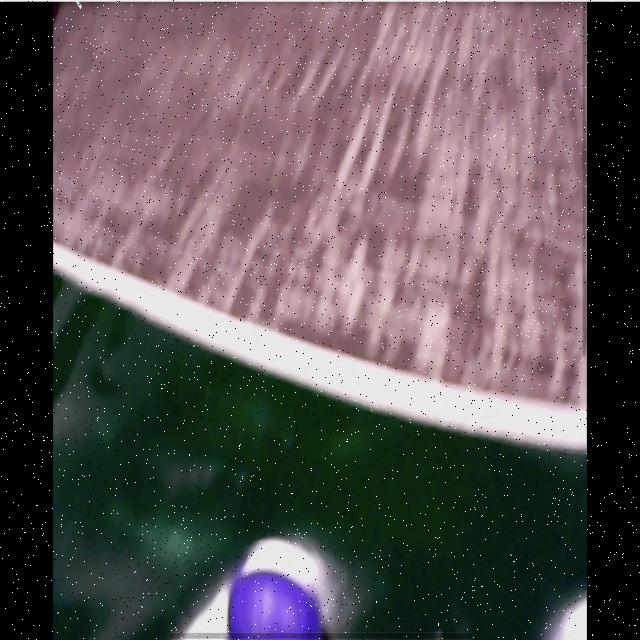ball: (228, 571, 325, 640)
